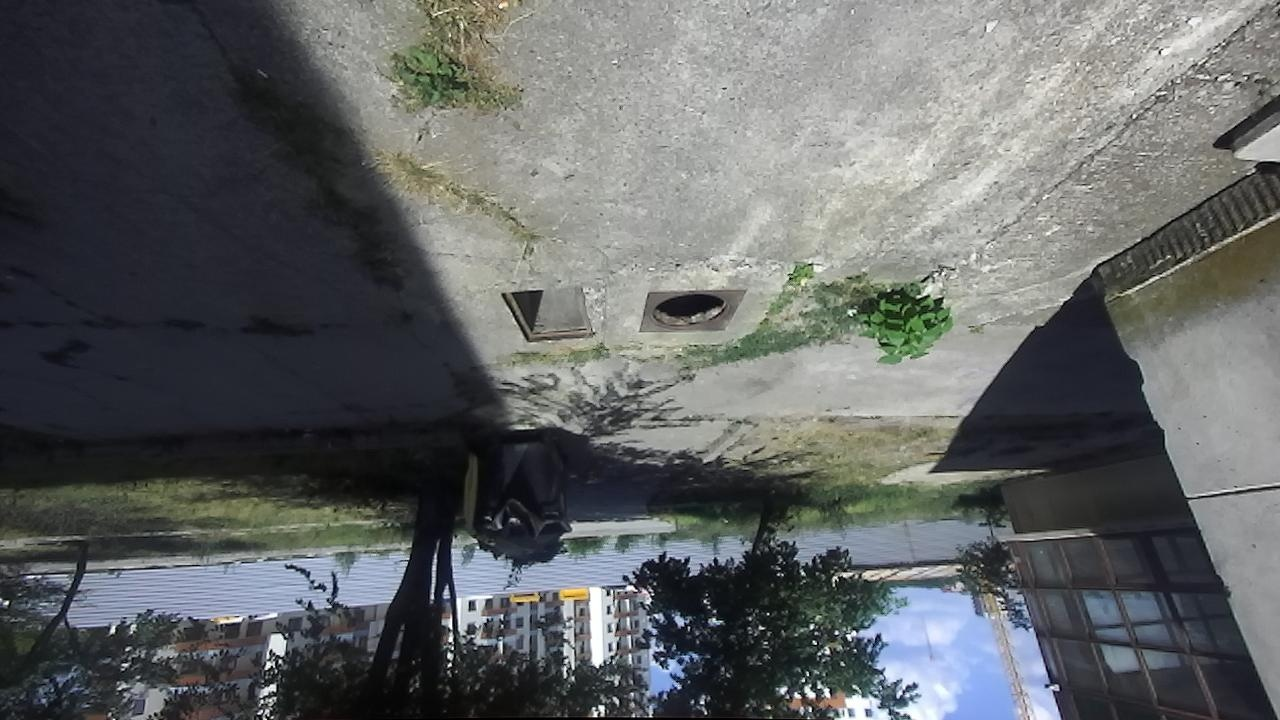drain: (497, 284, 594, 346), (649, 290, 730, 332)
